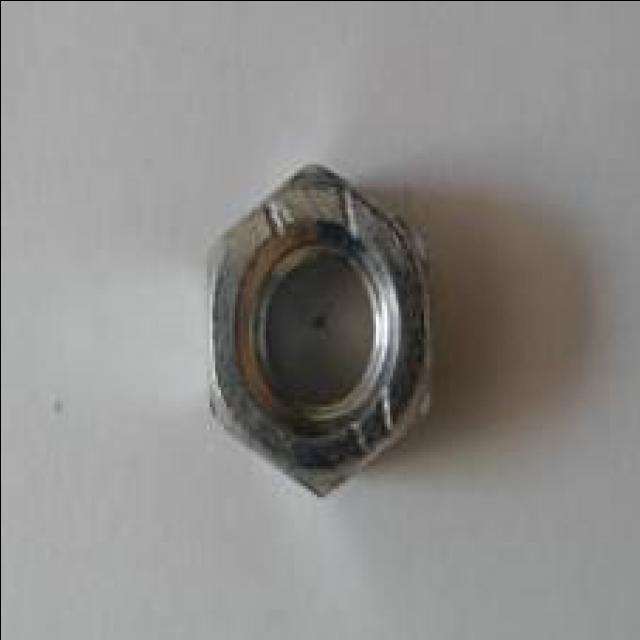ecrouOK: (196, 155, 439, 500)
